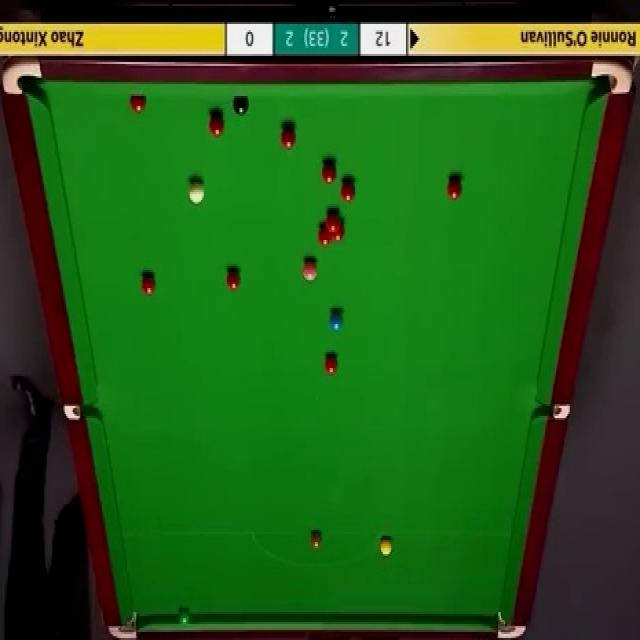black-ball: (232, 95, 248, 117)
blue-ball: (328, 311, 344, 332)
brown-ball: (310, 532, 322, 552)
green-ball: (177, 610, 190, 629)
pink-ball: (300, 254, 318, 286)
red-ball: (443, 172, 464, 204), (320, 160, 337, 189), (320, 349, 338, 376), (225, 267, 242, 294), (280, 123, 296, 151), (208, 110, 225, 136), (339, 179, 359, 201), (142, 271, 156, 296), (332, 218, 346, 242), (318, 222, 331, 246), (129, 97, 147, 114), (324, 210, 340, 229)
white-ball: (189, 179, 205, 204)
yellow-ball: (381, 538, 393, 554)
